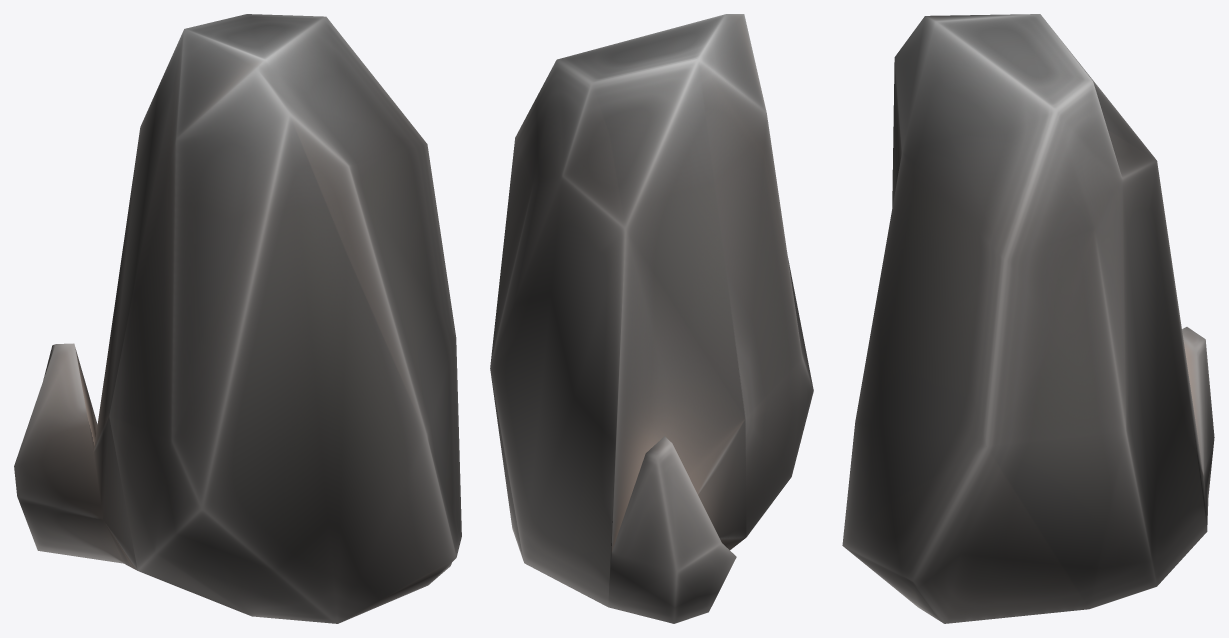
File: Rock_03.gltf
The picture shows the model from 3 angles, left to right: view 1: azimuth 30°, elevation 25°; view 2: azimuth 150°, elevation 25°; view 3: azimuth 270°, elevation 25°; orthographic projection. The views are drawn at different scales.
Visible parts, largest first — view 1: Rock_3; view 2: Rock_3; view 3: Rock_3.
Part boxes in pixels (x1,y1,x2,y2): Rock_3: (14,14,461,623); Rock_3: (490,14,813,623); Rock_3: (842,14,1214,623).
Size of the model in its own units: 4.87 by 7.42 by 4.85.
Materials: 1 (1 with a texture image).
